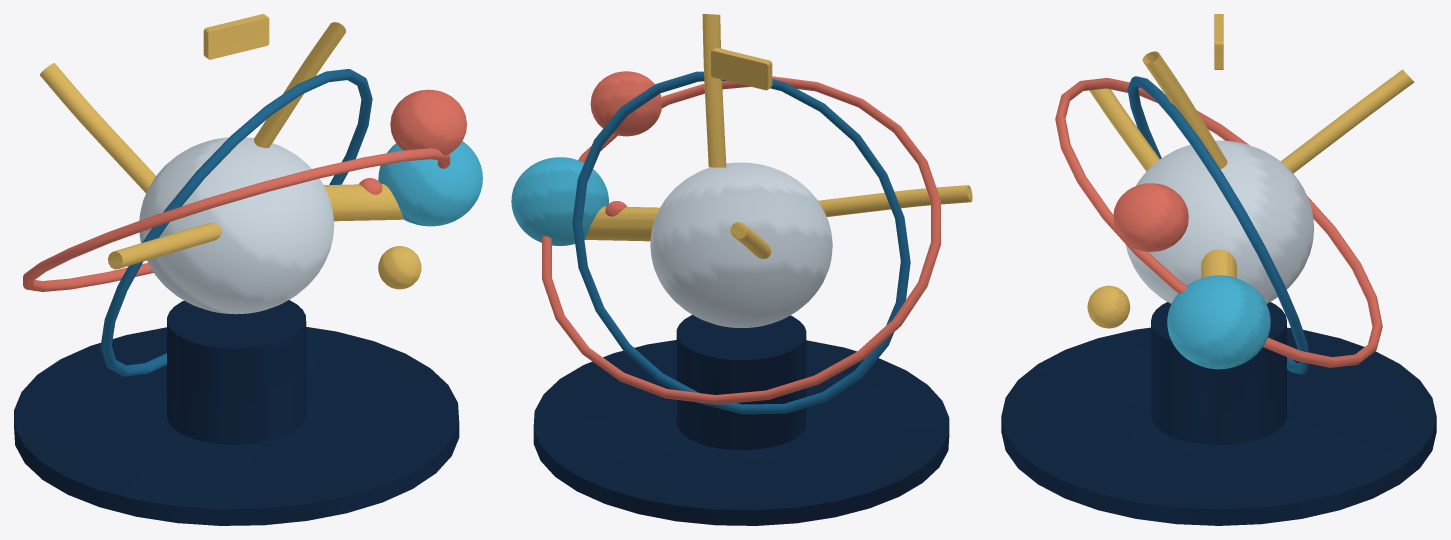
File: 0506_生活中的化学图鉴_氮气.glb
The picture shows the model from 3 angles, left to right: view 1: azimuth 30°, elevation 25°; view 2: azimuth 150°, elevation 25°; view 3: azimuth 270°, elevation 25°; orthographic projection. The views are drawn at different scales.
Visible parts, largest first — view 1: card_0506; view 2: card_0506; view 3: card_0506.
Part boxes in pixels (x1,y1,x2,y2): card_0506: (14, 14, 482, 525); card_0506: (511, 14, 972, 525); card_0506: (1001, 14, 1436, 525).
Bounding box in the file's own units: 1.1 × 1 × 0.9598.
